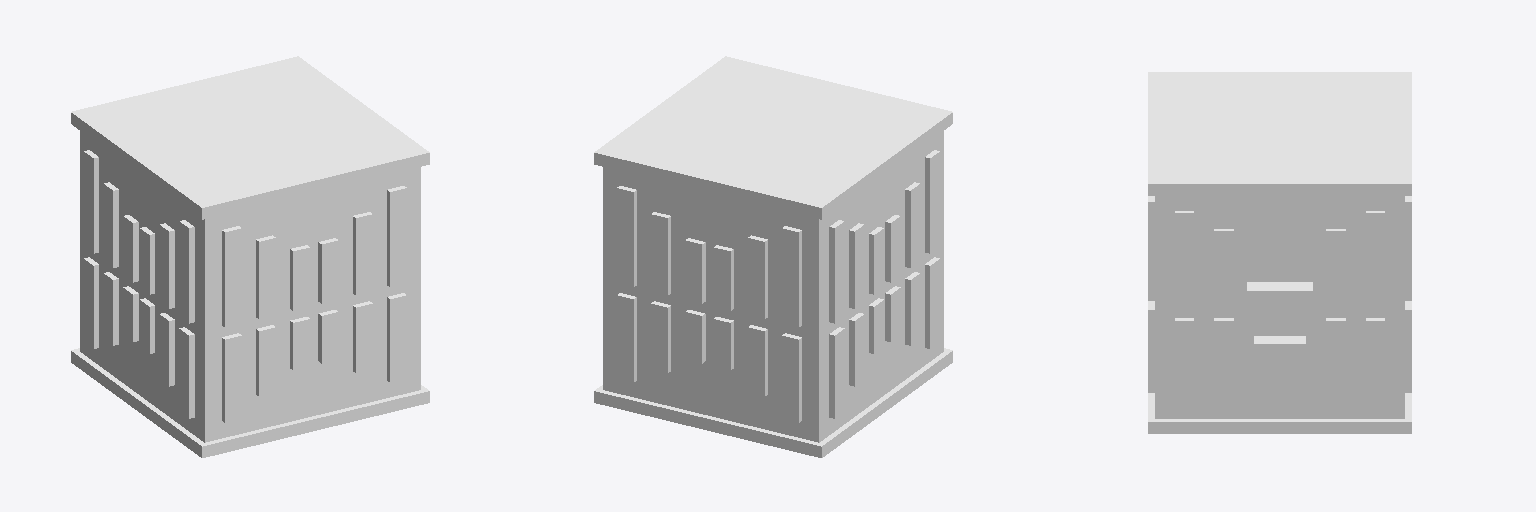
The model's file is storagebox.obj.
3 views of the same model, side by side, from view 1: azimuth 30°, elevation 25°; view 2: azimuth 150°, elevation 25°; view 3: azimuth 270°, elevation 25° (orthographic).
Visible parts, largest first — view 1: object 1; view 2: object 1; view 3: object 1.
Boxes of the visible parts, box(x1,y1,x2,y2) form: object 1: box(71, 56, 429, 457); object 1: box(594, 56, 952, 457); object 1: box(1148, 72, 1411, 433).
Size of the model in its own units: 4.2 by 4.2 by 4.